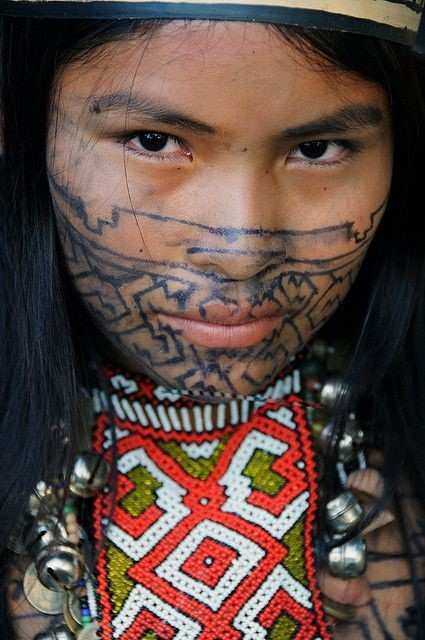face_no_mask: (3, 0, 421, 415)
